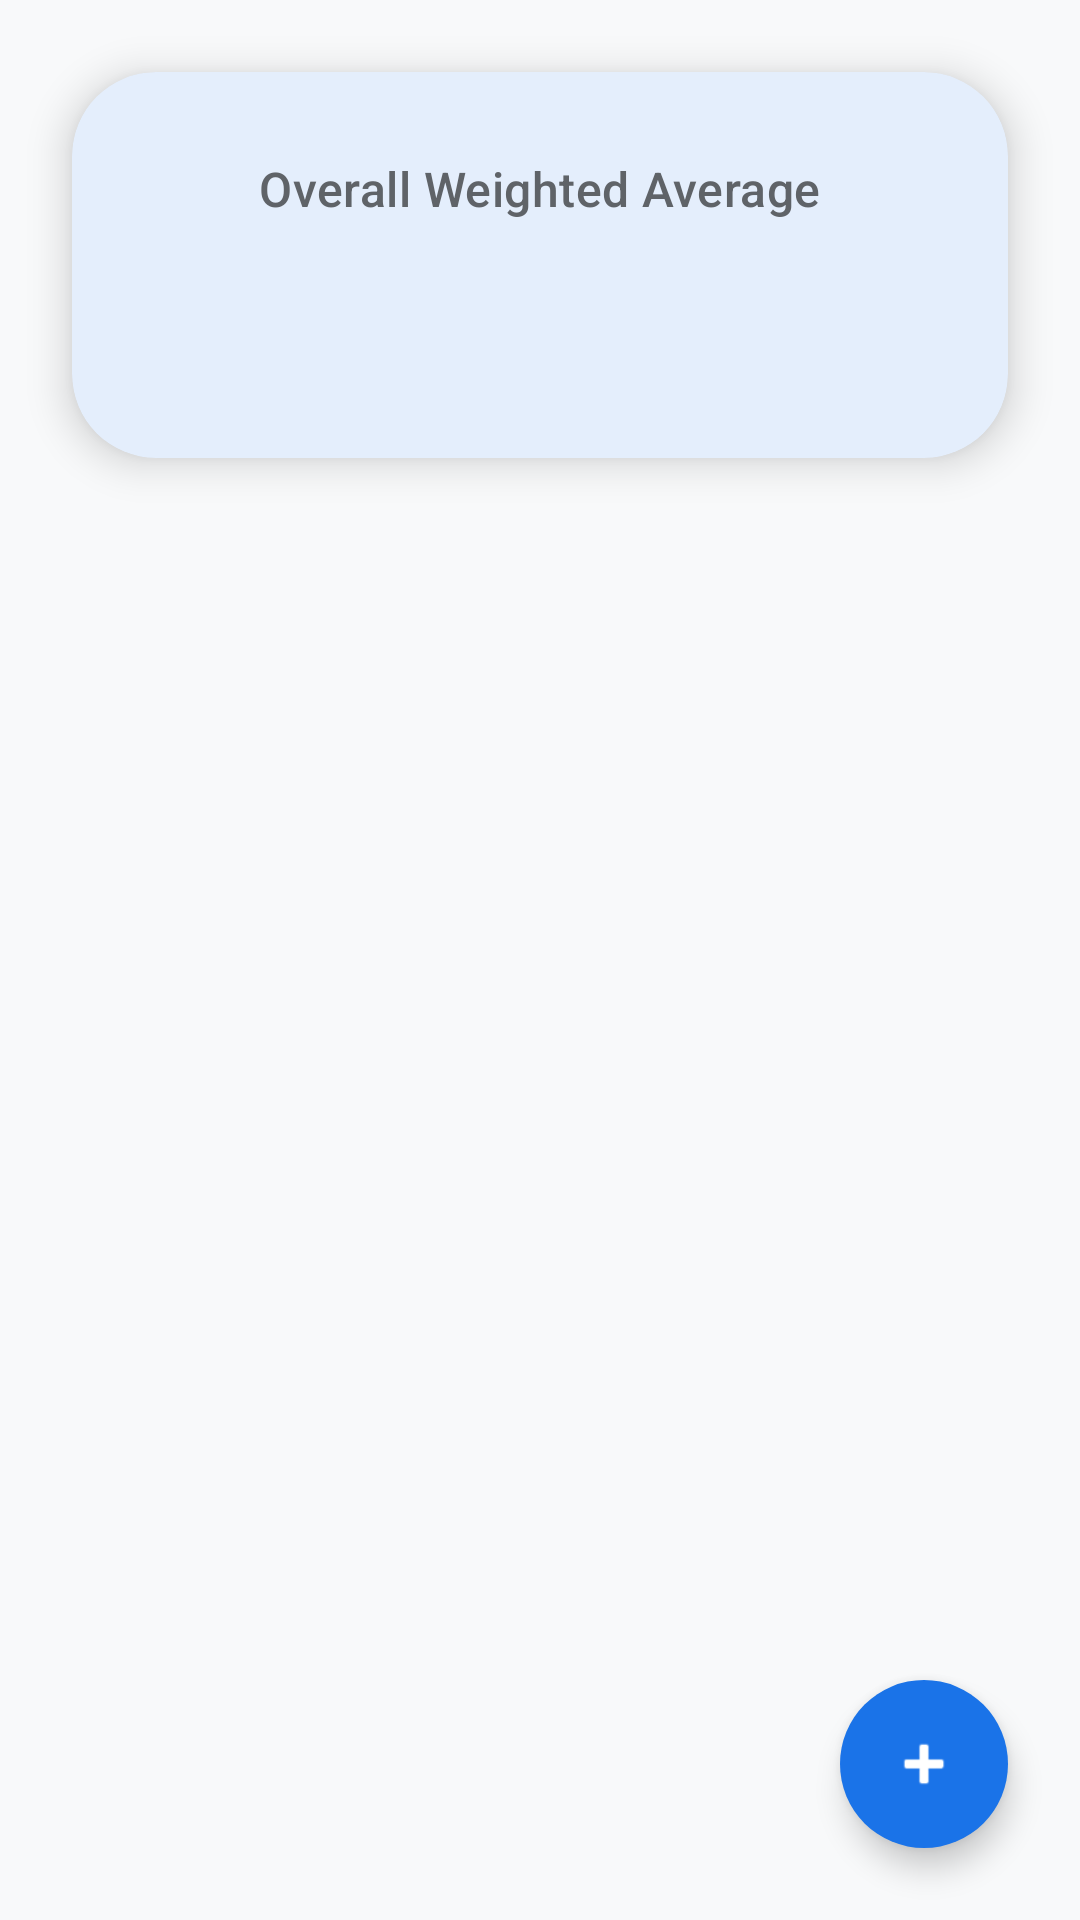

Point at icon controls on the screen. Image size 1080 x 1920, points as (x,y).
Add mark: (924,1764)
